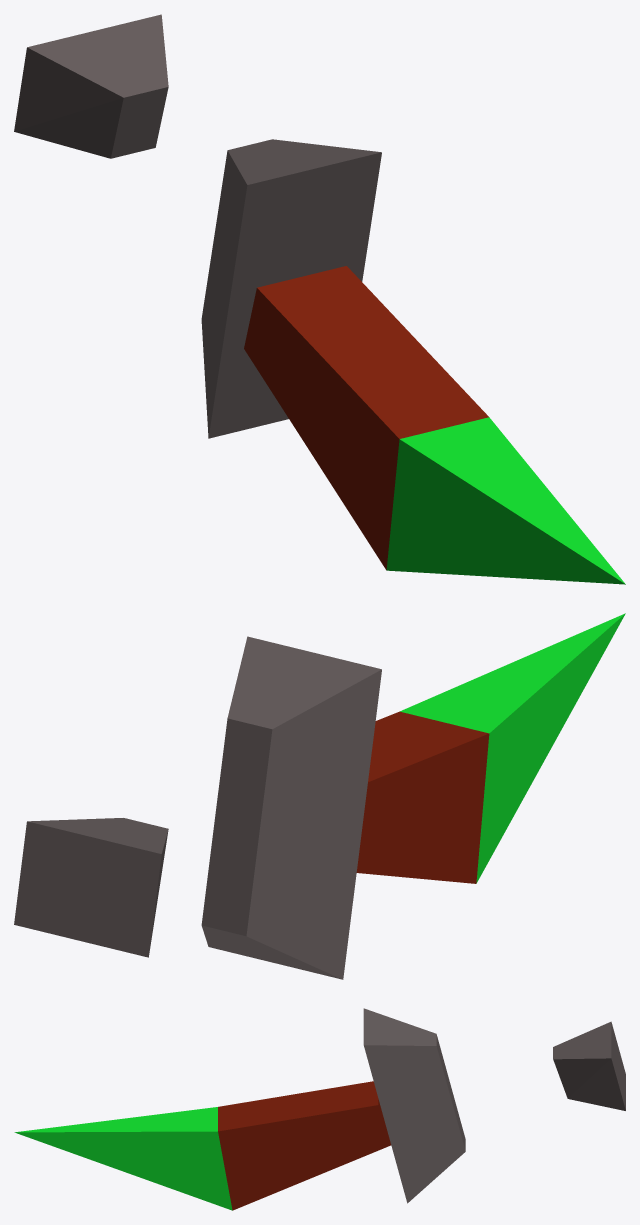
Rendered from itm_model0_dragon_dagger_p.obj.
3 views of the same model, one above another, from view 1: azimuth 30°, elevation 25°; view 2: azimuth 150°, elevation 25°; view 3: azimuth 270°, elevation 25° (orthographic). The views are drawn at different scales.
Bounding box in the file's own units: 0.0469 × 0.1016 × 0.3281.
